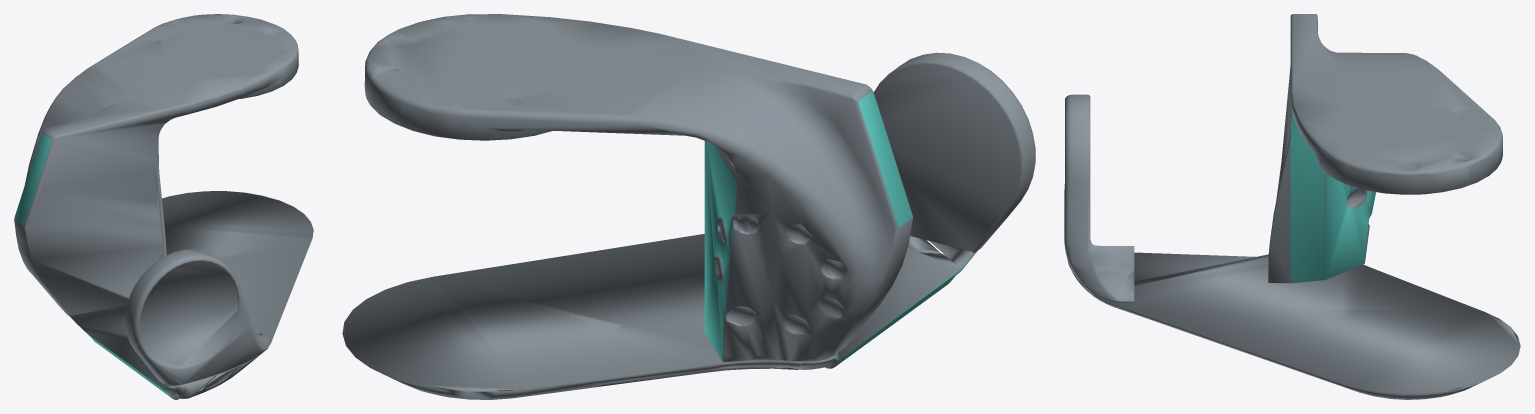
File: RightHipYawLink.obj
The picture shows the model from 3 angles, left to right: view 1: azimuth 30°, elevation 25°; view 2: azimuth 150°, elevation 25°; view 3: azimuth 270°, elevation 25°; orthographic projection. The views are drawn at different scales.
Visible parts, largest first — view 1: RightHipYawLink_Material__60.001, RightHipYawLink_Material__63.001; view 2: RightHipYawLink_Material__60.001, RightHipYawLink_Material__63.001; view 3: RightHipYawLink_Material__60.001, RightHipYawLink_Material__63.001.
Part boxes in pixels (x1=…): RightHipYawLink_Material__60.001: x1=14, y1=14, x2=313, y2=399; RightHipYawLink_Material__63.001: x1=14, y1=133, x2=171, y2=397; RightHipYawLink_Material__60.001: x1=342, y1=14, x2=1035, y2=399; RightHipYawLink_Material__63.001: x1=704, y1=91, x2=968, y2=365; RightHipYawLink_Material__60.001: x1=1064, y1=14, x2=1520, y2=399; RightHipYawLink_Material__63.001: x1=1290, y1=107, x2=1375, y2=282.
Bounding box in the file's own units: 0.1932 × 0.1178 × 0.202.
